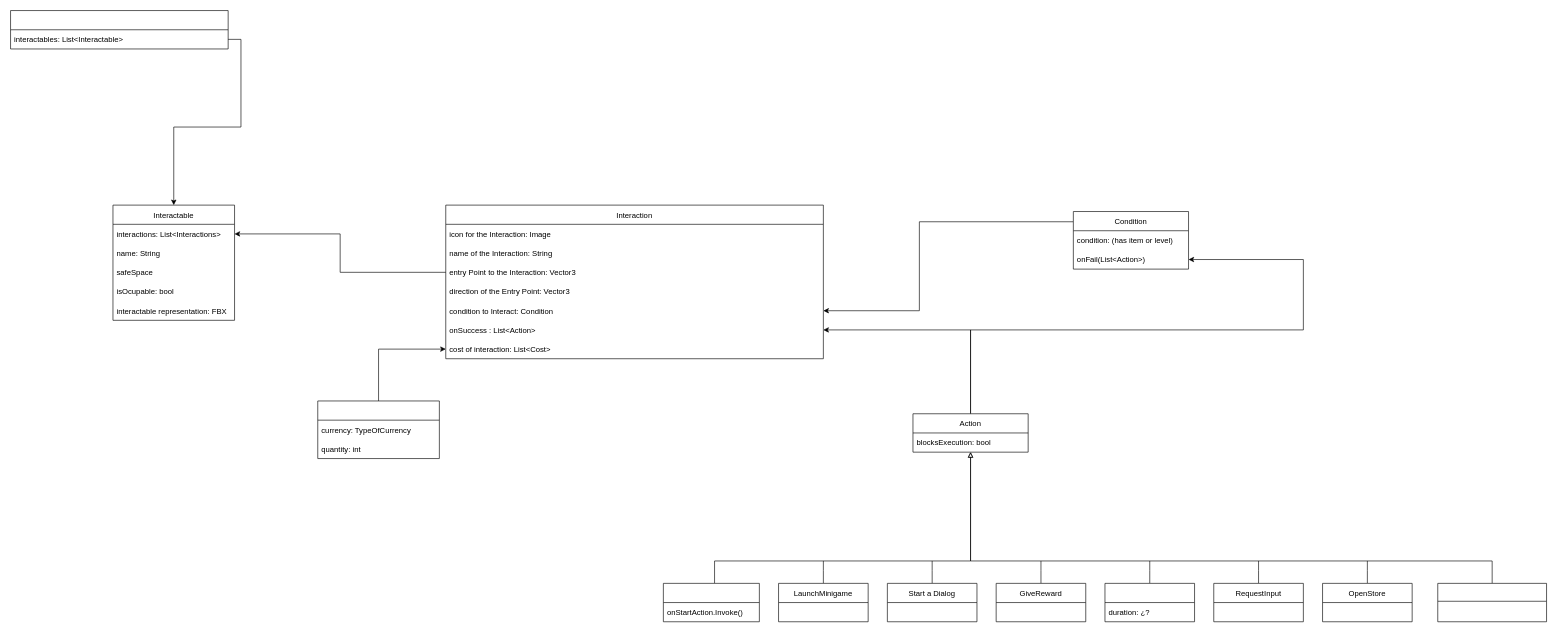
Some shapes in this 1557 by 632 pixel diagram are drawn without their labels. The shapes that lost their labels are listed below. From the top down, each one's box as (x1, y1, x2, y2) in pixels, then its label:
(10, 10, 228, 49): Interaction Asset Container
(317, 400, 439, 459): Cost
(663, 583, 759, 622): TeleportPlayerOtherSpace
(1104, 583, 1195, 622): PlayAnimation
(1437, 583, 1547, 622): TeleportPlayerOtherRoom
